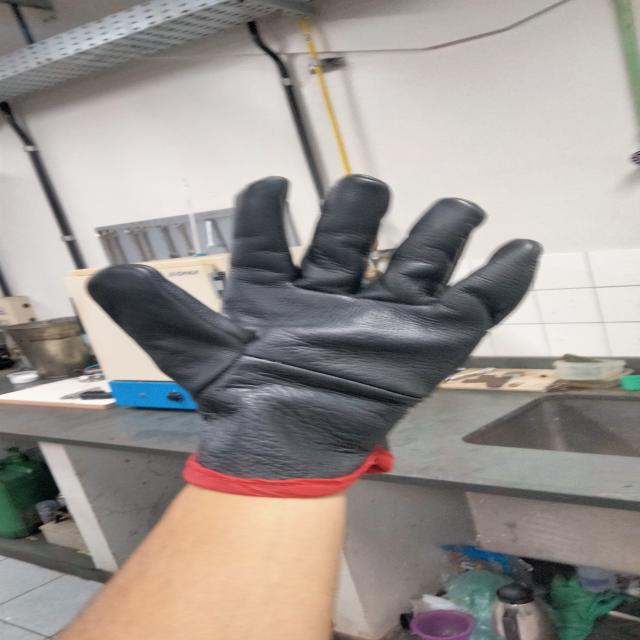Gloves: (77, 170, 534, 498)
